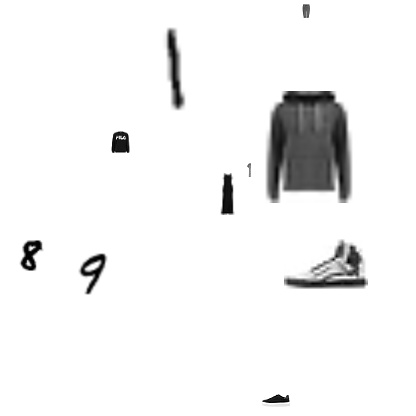1: (116, 13, 228, 125)
8: (9, 233, 51, 275)
9: (65, 242, 121, 298)
Dress: (206, 173, 248, 215)
Pullover: (251, 91, 363, 203), (109, 131, 131, 153)
Sneaker: (284, 222, 368, 306), (262, 386, 290, 414)
T-shirt/top: (246, 163, 260, 177)
Trouser: (299, 4, 313, 18)
